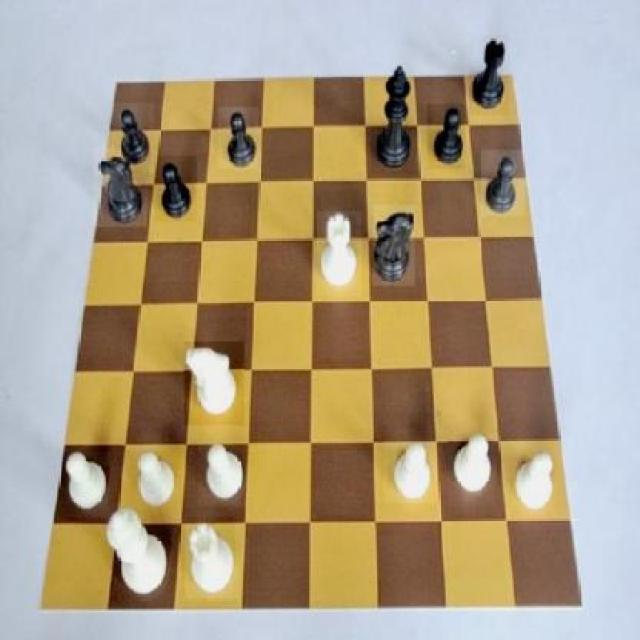black-bishop: (372, 63, 417, 174)
black-king: (94, 148, 148, 227), (372, 204, 415, 286)
black-knight: (480, 151, 525, 217), (112, 103, 155, 172), (154, 157, 197, 223), (218, 106, 258, 169), (428, 105, 465, 169)
black-queen: (471, 36, 511, 116)
white-bishop: (108, 504, 172, 598)
white-king: (184, 342, 244, 426)
white-knight: (58, 445, 112, 517), (129, 448, 183, 515), (449, 434, 497, 508), (384, 438, 438, 502), (511, 451, 560, 518), (198, 442, 248, 506)
white-queen: (186, 525, 240, 600), (317, 212, 361, 297)
